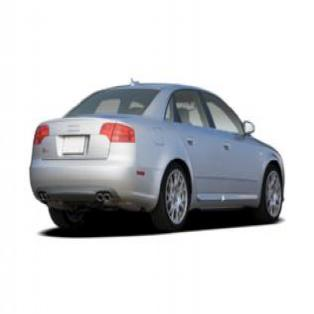Auto: (29, 77, 284, 233)
